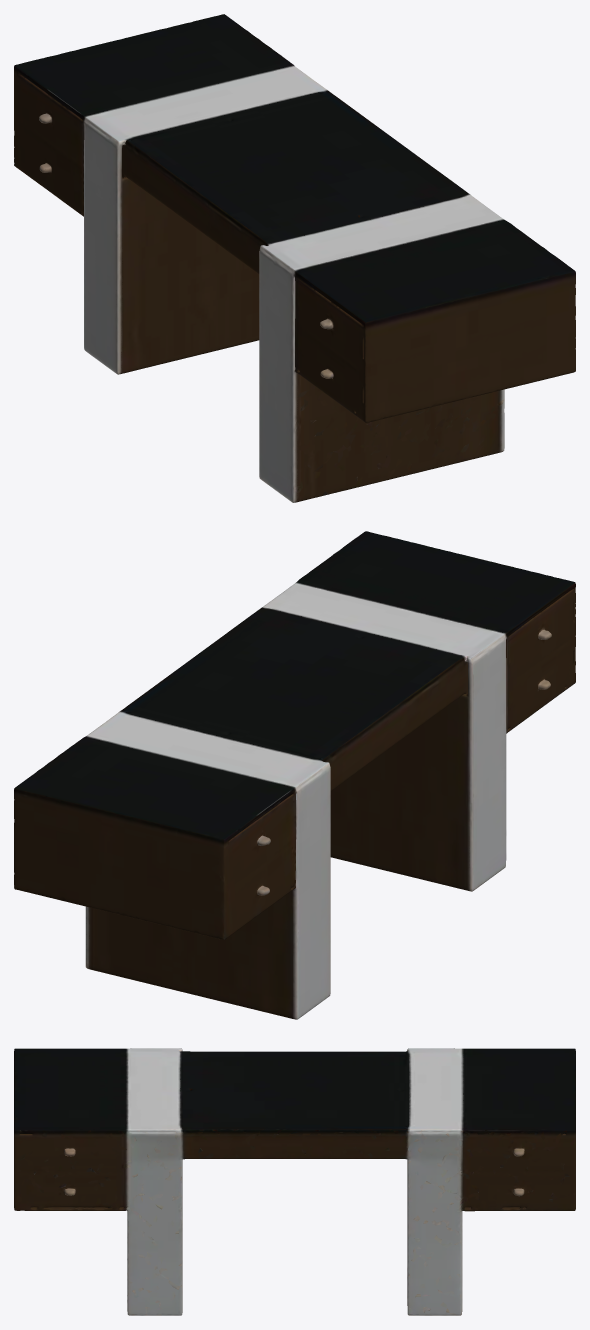
3 views of the same model, one above another, from view 1: azimuth 30°, elevation 25°; view 2: azimuth 150°, elevation 25°; view 3: azimuth 270°, elevation 25° (orthographic). The views are drawn at different scales.
Parts seen in each view (by area): view 1: world; view 2: world; view 3: world.
Part boxes in pixels (<box>): world: <box>14,14,575,502</box>; world: <box>14,531,575,1019</box>; world: <box>14,1048,575,1315</box>.
Size of the model in its own units: 0.3782 by 0.3672 by 1.
1 material, 1 textured.
